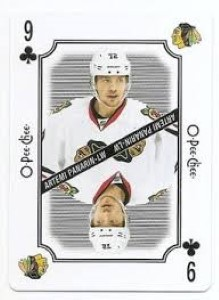NineOfClubs: (5, 12, 204, 288)
